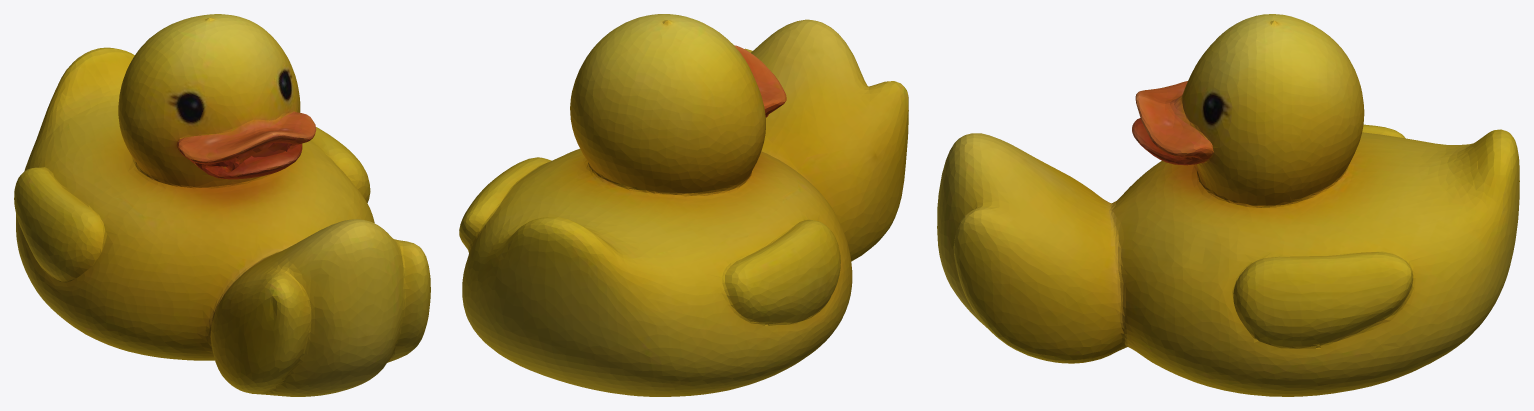
Rendered from gen-duck.glb.
The picture shows the model from 3 angles, left to right: view 1: azimuth 30°, elevation 25°; view 2: azimuth 150°, elevation 25°; view 3: azimuth 270°, elevation 25°; orthographic projection. The views are drawn at different scales.
Visible parts, largest first — view 1: geometry_0; view 2: geometry_0; view 3: geometry_0.
Boxes of the visible parts, x1,y1,x2,y2 form: geometry_0: [14, 14, 430, 396]; geometry_0: [459, 14, 908, 396]; geometry_0: [937, 14, 1519, 396].
Bounding box in the file's own units: 0.6725 × 0.6351 × 0.9991.
Materials: 1 (1 with a texture image).
